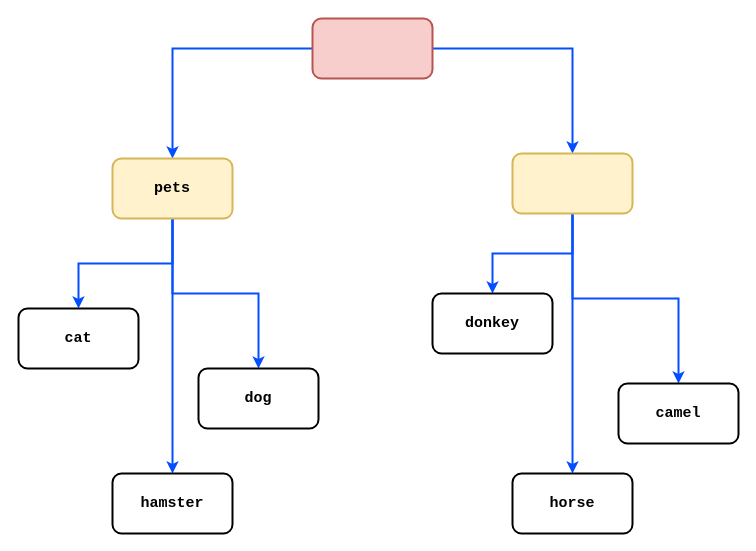
This 756x551 diagram has some shape labels left out. The centre of each missing label's shape, as x and y in pixels:
animal: point (372, 48)
pack_animal: point (572, 183)
